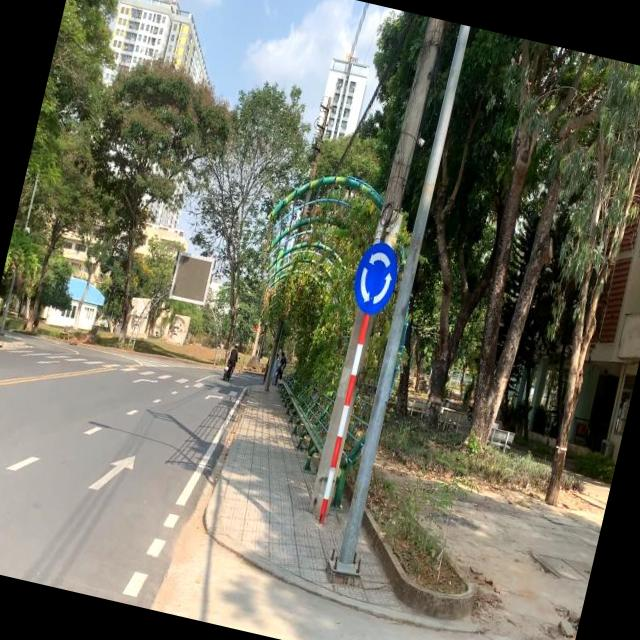R-303: (348, 236, 404, 316)
